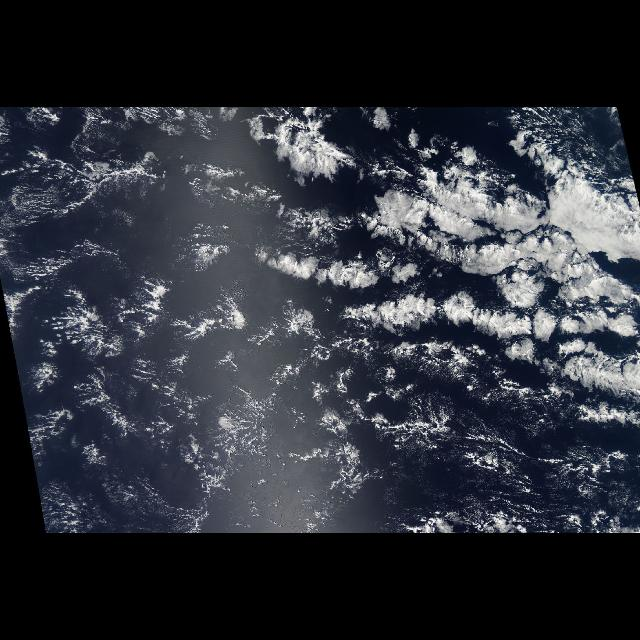Fish: (243, 156, 639, 384)
Flower: (15, 113, 630, 519)
